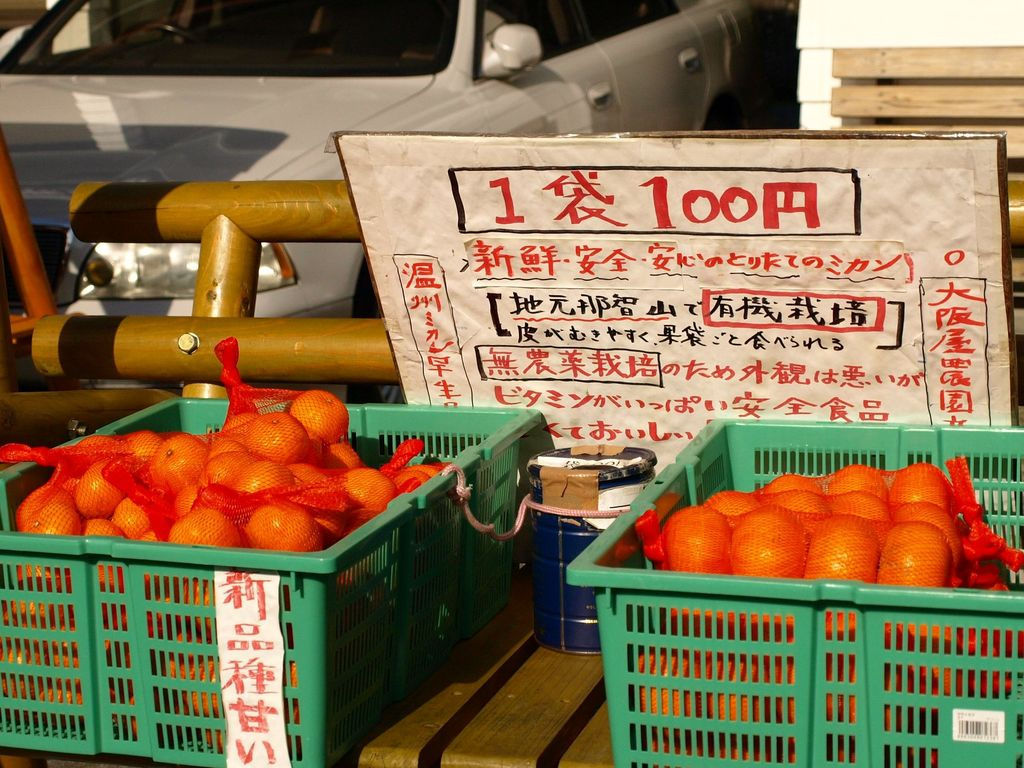Ripe: (882, 524, 954, 590)
